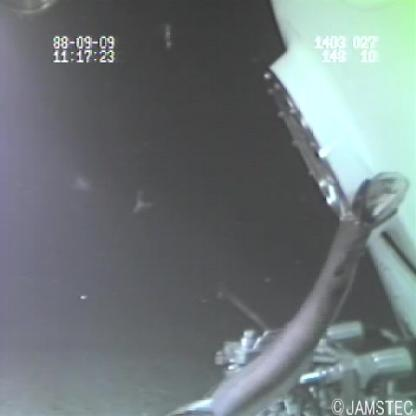Bio: (196, 170, 412, 416)
Rov: (258, 2, 416, 236), (211, 327, 415, 416)
